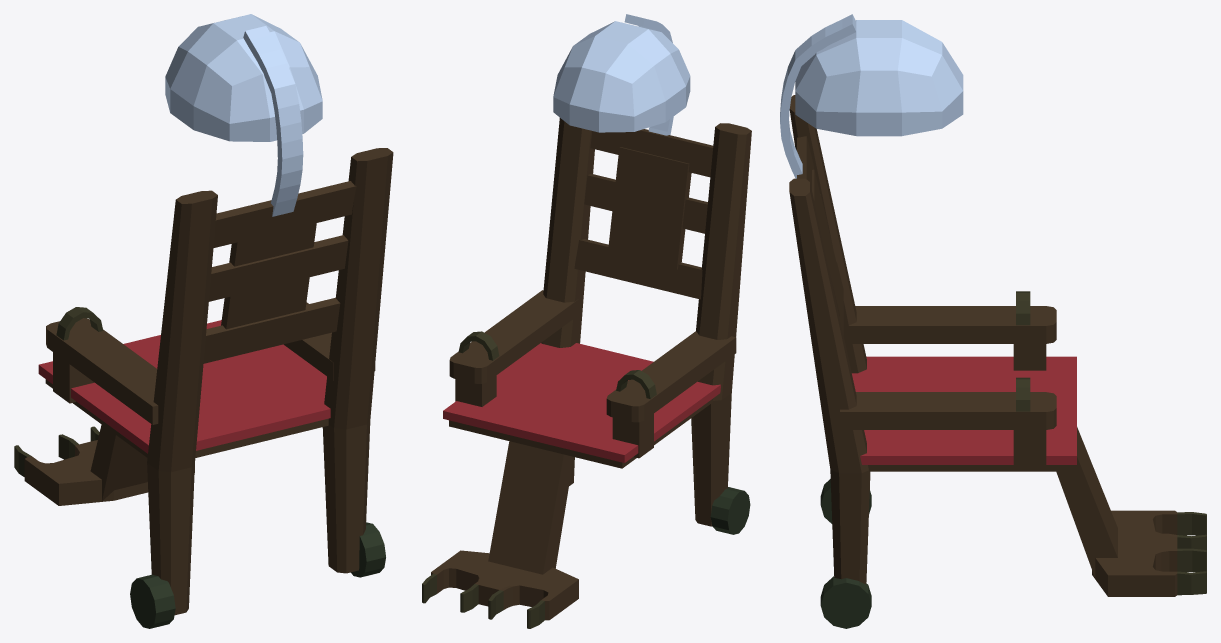
File: elektroStul.fbx
The picture shows the model from 3 angles, left to right: view 1: azimuth 30°, elevation 25°; view 2: azimuth 150°, elevation 25°; view 3: azimuth 270°, elevation 25°; orthographic projection. The views are drawn at different scales.
Parts seen in each view (by area): view 1: Cube.020; view 2: Cube.020; view 3: Cube.020.
Boxes of the visible parts, box(x1,y1,x2,y2) form: Cube.020: box(14, 14, 393, 628); Cube.020: box(422, 14, 751, 628); Cube.020: box(780, 14, 1206, 628).
Size of the model in its own units: 43.07 by 102 by 70.84.
